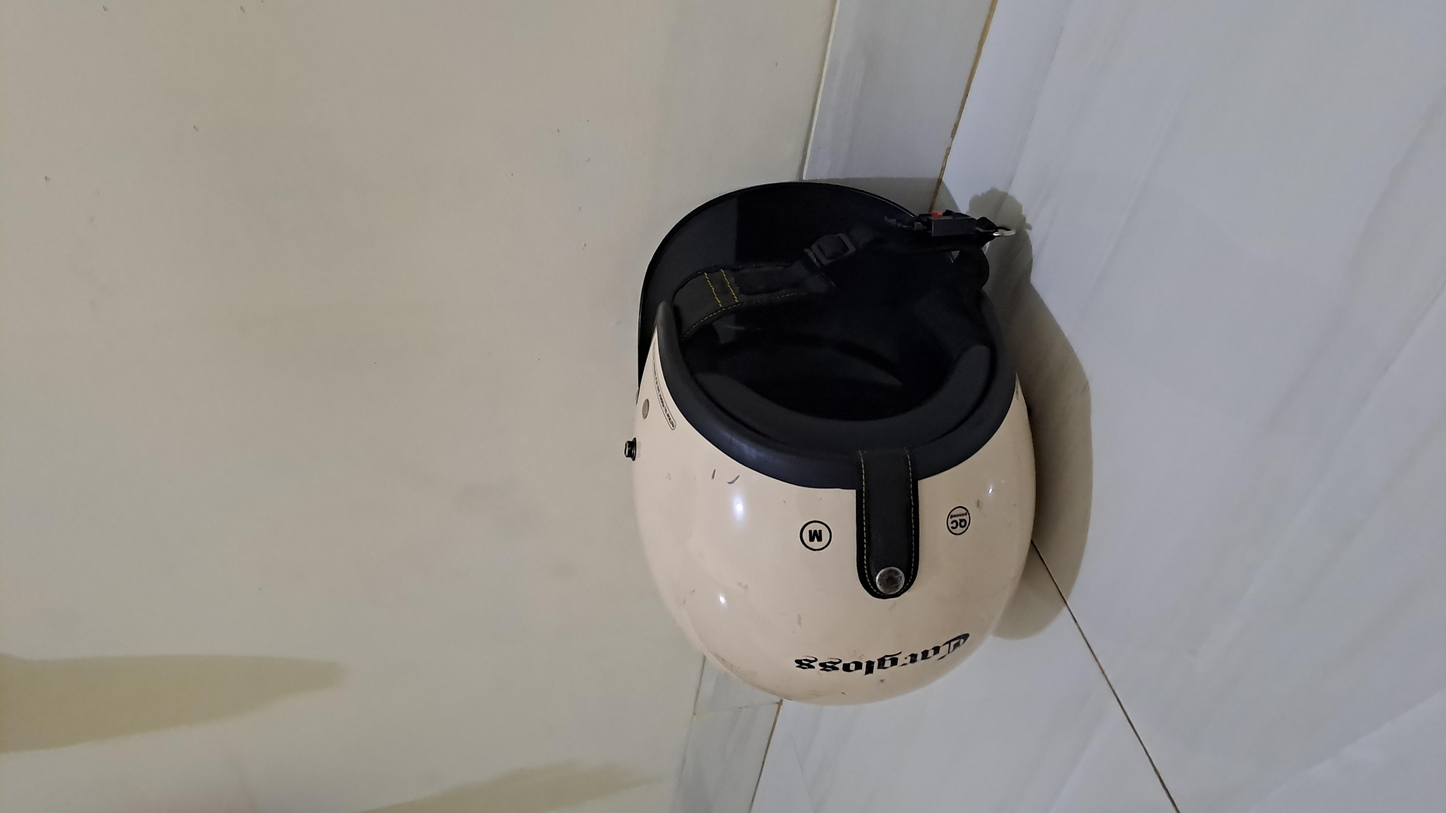helmet: (144, 324, 1212, 599)
